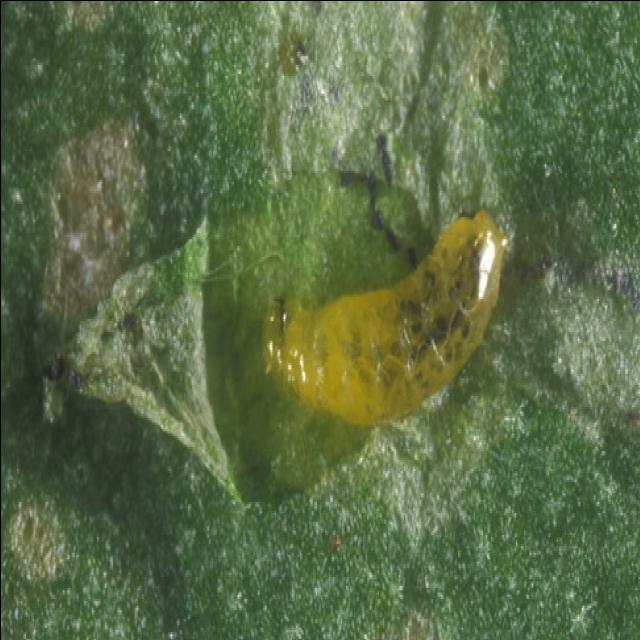Serpentine leafminer: (258, 184, 508, 439)
